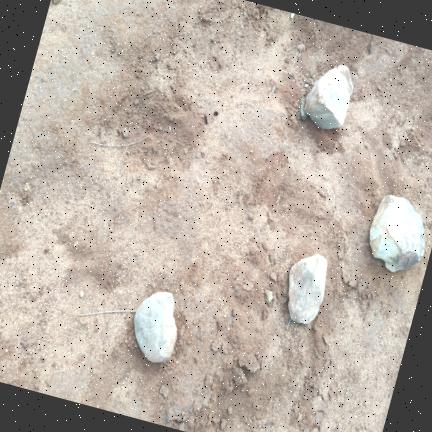Rocks: (369, 195, 424, 271), (303, 65, 352, 128), (133, 292, 176, 362), (287, 254, 326, 323), (159, 385, 168, 398), (264, 290, 272, 304), (210, 340, 219, 351), (219, 419, 226, 430), (121, 127, 127, 138), (296, 44, 304, 52), (269, 272, 276, 281), (226, 406, 231, 416), (178, 422, 184, 430), (115, 270, 121, 278), (51, 0, 59, 4), (72, 241, 77, 247), (78, 291, 82, 297)
